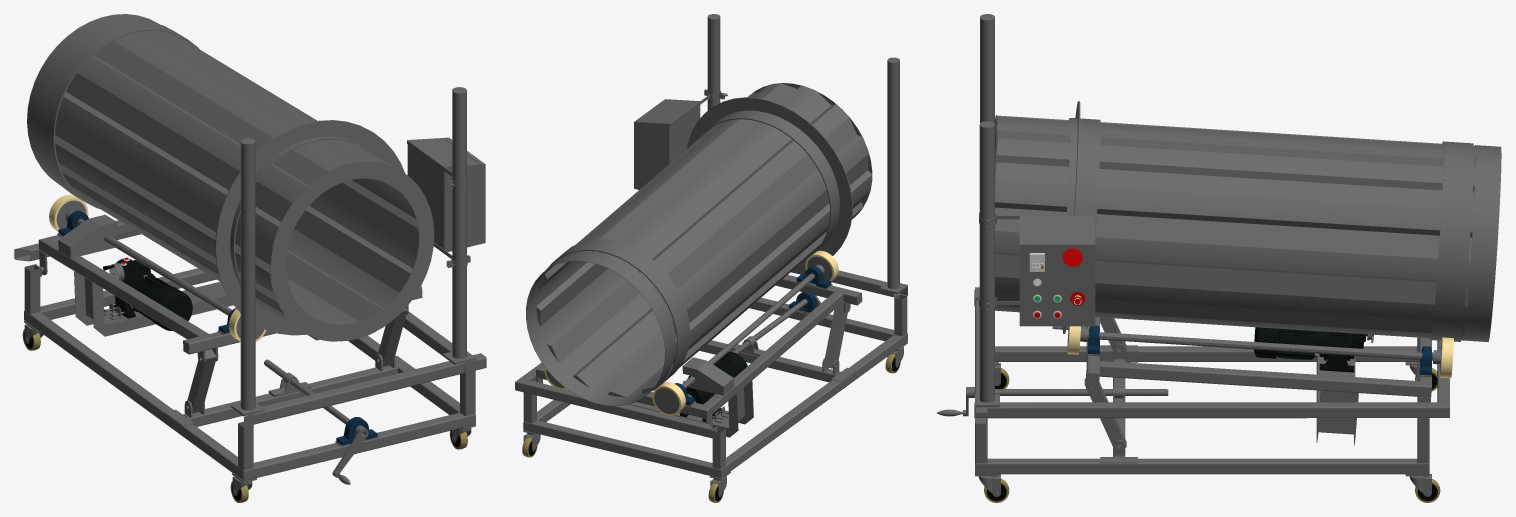
File: DEMO.FBX
3 views of the same model, side by side, from view 1: azimuth 30°, elevation 25°; view 2: azimuth 150°, elevation 25°; view 3: azimuth 270°, elevation 25° (orthographic). The views are drawn at different scales.
Visible parts, largest first — view 1: 調味桶_旋轉, 底座, 控制器, 關節3, 關節1, 關節2, 搖桿; view 2: 調味桶_旋轉, 底座, 控制器, 關節3, 關節1, 關節2, 搖桿; view 3: 調味桶_旋轉, 底座, 控制器, 關節3, 關節1, 搖桿, 關節2.
Part boxes in pixels (x1,y1,x2,y2): 調味桶_旋轉: (27, 14, 434, 341); 底座: (14, 231, 486, 502); 控制器: (231, 87, 485, 416); 關節3: (35, 195, 422, 364); 關節1: (165, 354, 415, 426); 關節2: (187, 308, 407, 413); 搖桿: (264, 359, 368, 484); 調味桶_旋轉: (526, 83, 872, 406); 底座: (515, 270, 907, 502); 控制器: (634, 14, 907, 294); 關節3: (536, 250, 862, 431); 關節1: (699, 336, 856, 382); 關節2: (823, 302, 847, 368); 搖桿: (732, 295, 820, 353); 調味桶_旋轉: (994, 101, 1501, 341); 底座: (974, 290, 1449, 502); 控制器: (975, 14, 1095, 407); 關節3: (1052, 317, 1453, 402); 關節1: (1100, 341, 1137, 463); 搖桿: (937, 387, 1168, 416); 關節2: (1084, 317, 1126, 447).
Bounding box in the file's own units: 50.28 × 64.61 × 88.01.
